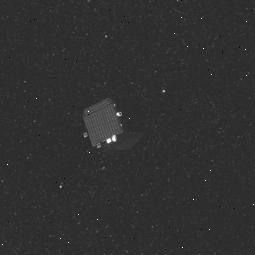proba_3_ocs: (70, 93, 144, 159)
